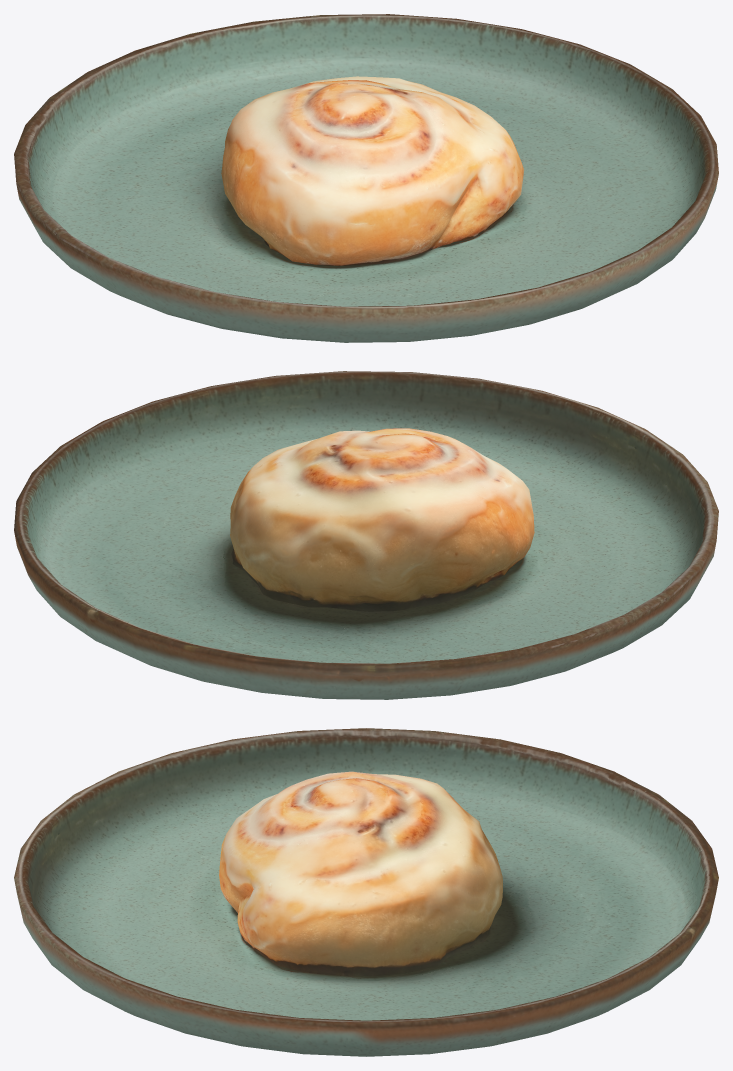
File: RolCanela.glb
3 renders of one model, top to bottom at view 1: azimuth 30°, elevation 25°; view 2: azimuth 150°, elevation 25°; view 3: azimuth 270°, elevation 25°, orthographic.
Visible parts, largest first — view 1: Plato, Rol; view 2: Plato, Rol; view 3: Plato, Rol.
Boxes of the visible parts, x1=… form: Plato: x1=14, y1=14, x2=718, y2=342; Rol: x1=221, y1=76, x2=524, y2=266; Plato: x1=14, y1=371, x2=718, y2=699; Rol: x1=230, y1=428, x2=534, y2=611; Plato: x1=14, y1=728, x2=718, y2=1056; Rol: x1=219, y1=771, x2=502, y2=976.
Bounding box in the file's own units: 1.96 × 0.4223 × 1.96.
Materials: 2 (2 with a texture image).
